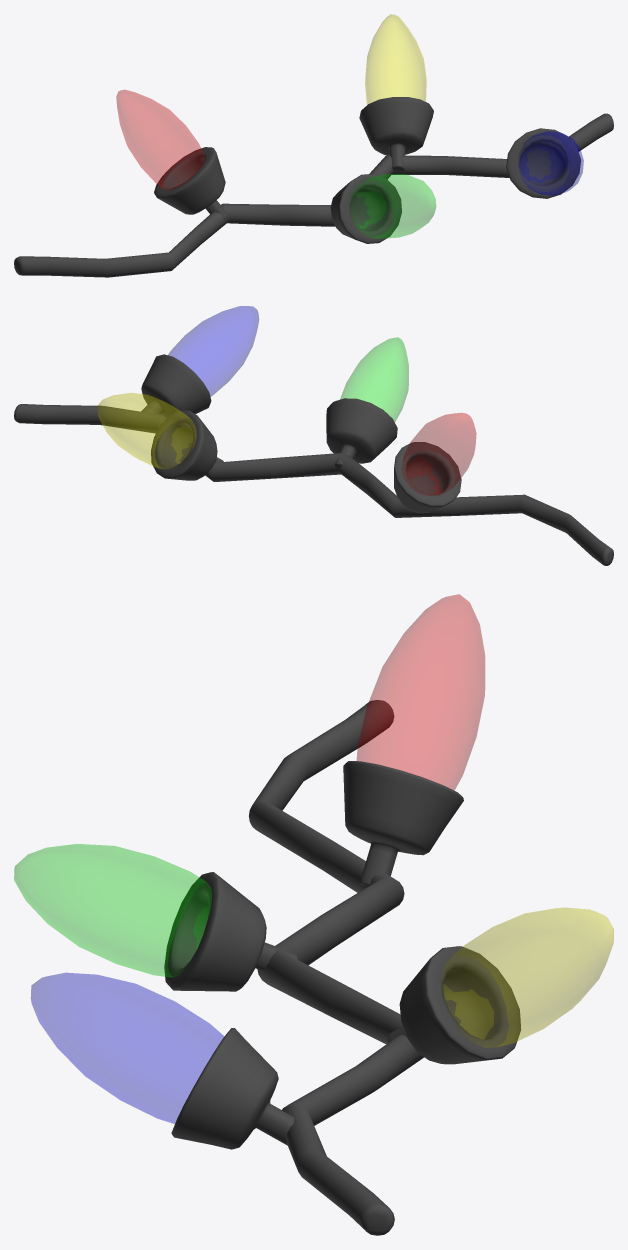
Rendered from Luces Navidad.fbx.
The picture shows the model from 3 angles, top to bottom: view 1: azimuth 30°, elevation 25°; view 2: azimuth 150°, elevation 25°; view 3: azimuth 270°, elevation 25°; orthographic projection. The views are drawn at different scales.
Visible parts, largest first — view 1: polySurface11; view 2: polySurface11; view 3: polySurface11.
Boxes of the visible parts, left/top/right/bottom form: polySurface11: left=14, top=14, right=613, bottom=277; polySurface11: left=14, top=306, right=613, bottom=565; polySurface11: left=14, top=594, right=613, bottom=1235.
Size of the model in its own units: 5.16 by 1.15 by 2.57.
